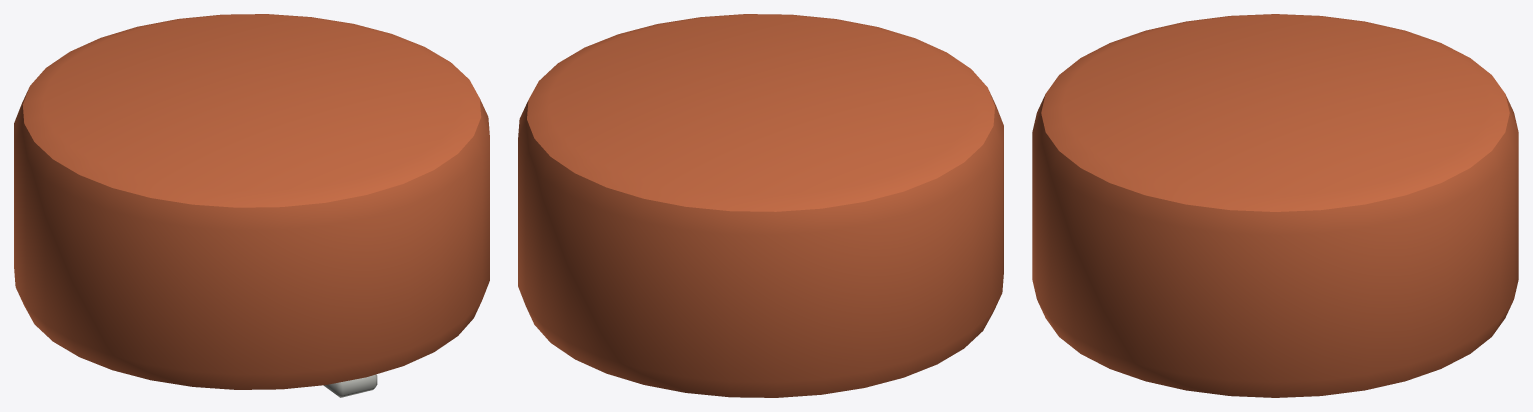
Rendered from trolley_mig_welder_wire_speed_knob.glb.
3 renders of one model, left to right at view 1: azimuth 30°, elevation 25°; view 2: azimuth 150°, elevation 25°; view 3: azimuth 270°, elevation 25°, orthographic. The views are drawn at different scales.
Parts seen in each view (by area): view 1: trolley_mig_welder_wire_speed_knob; view 2: trolley_mig_welder_wire_speed_knob; view 3: trolley_mig_welder_wire_speed_knob.
Boxes of the visible parts, box(x1,y1,x2,y2) form: trolley_mig_welder_wire_speed_knob: box(14, 14, 489, 397); trolley_mig_welder_wire_speed_knob: box(518, 14, 1003, 397); trolley_mig_welder_wire_speed_knob: box(1032, 14, 1518, 397).
Size of the model in its own units: 0.048 by 0.0238 by 0.048.
